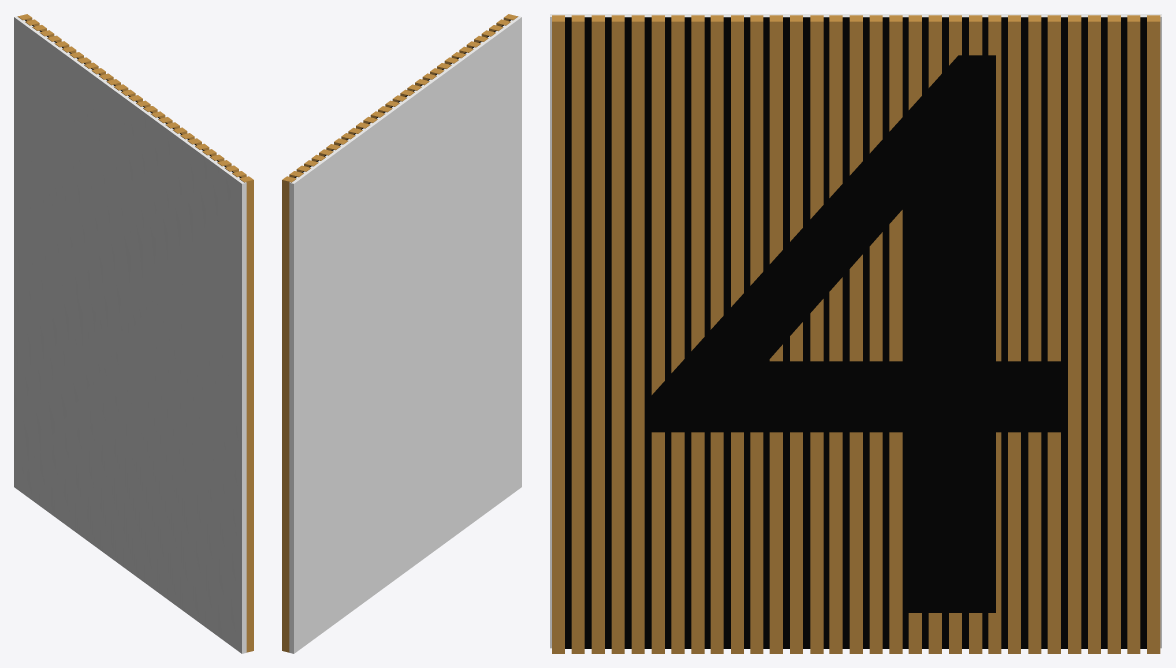
Rendered from 4 sal.fbx.
3 views of the same model, side by side, from view 1: azimuth 30°, elevation 25°; view 2: azimuth 150°, elevation 25°; view 3: azimuth 270°, elevation 25° (orthographic). The views are drawn at different scales.
Visible parts, largest first — view 1: Cube.002, Cube.003; view 2: Cube.002, Cube.032; view 3: Cube, Text, Cube.032, Cube.031, Cube.030, Cube.028, Cube.007, Cube.006, Cube.005, Cube.004, Cube.008, Cube.029 (+22 smaller).
Boxes of the visible parts, x1,y1,x2,y2 form: Cube.002: (14,16,246,653); Cube.003: (239,176,253,652); Cube.002: (289,16,521,653); Cube.032: (282,176,296,652); Cube: (565,17,1146,648); Text: (651,55,1060,612); Cube.032: (1147,15,1160,653); Cube.031: (1127,15,1140,653); Cube.030: (1107,15,1120,653); Cube.028: (1068,15,1081,653); Cube.007: (631,15,644,653); Cube.006: (611,15,624,653); Cube.005: (591,15,604,653); Cube.004: (571,15,584,653); Cube.008: (651,15,664,653); Cube.029: (1088,15,1100,653).
Bounding box in the file's own units: 27.92 × 940 × 824.
